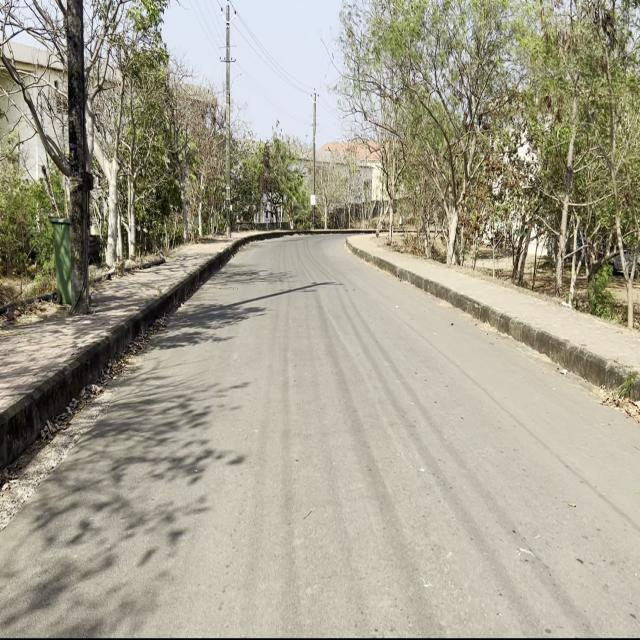Road: (3, 235, 639, 635)
